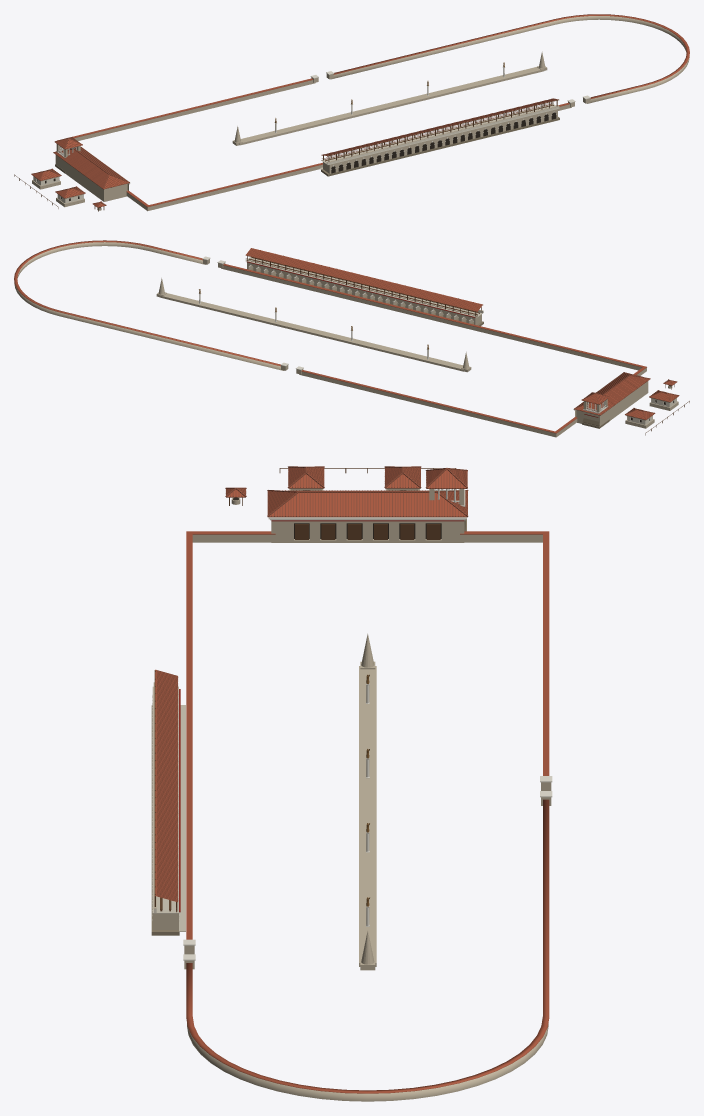
The model's file is rome_trigarium.glb.
The picture shows the model from 3 angles, top to bottom: view 1: azimuth 30°, elevation 25°; view 2: azimuth 150°, elevation 25°; view 3: azimuth 270°, elevation 25°; orthographic projection. The views are drawn at different scales.
Parts seen in each view (by area): view 1: rome_trigarium; view 2: rome_trigarium; view 3: rome_trigarium.
Part boxes in pixels (x1,y1,x2,y2): rome_trigarium: [14, 14, 689, 211]; rome_trigarium: [14, 240, 689, 437]; rome_trigarium: [151, 466, 552, 1101].
Size of the model in its own units: 337 by 15.16 by 91.2.
